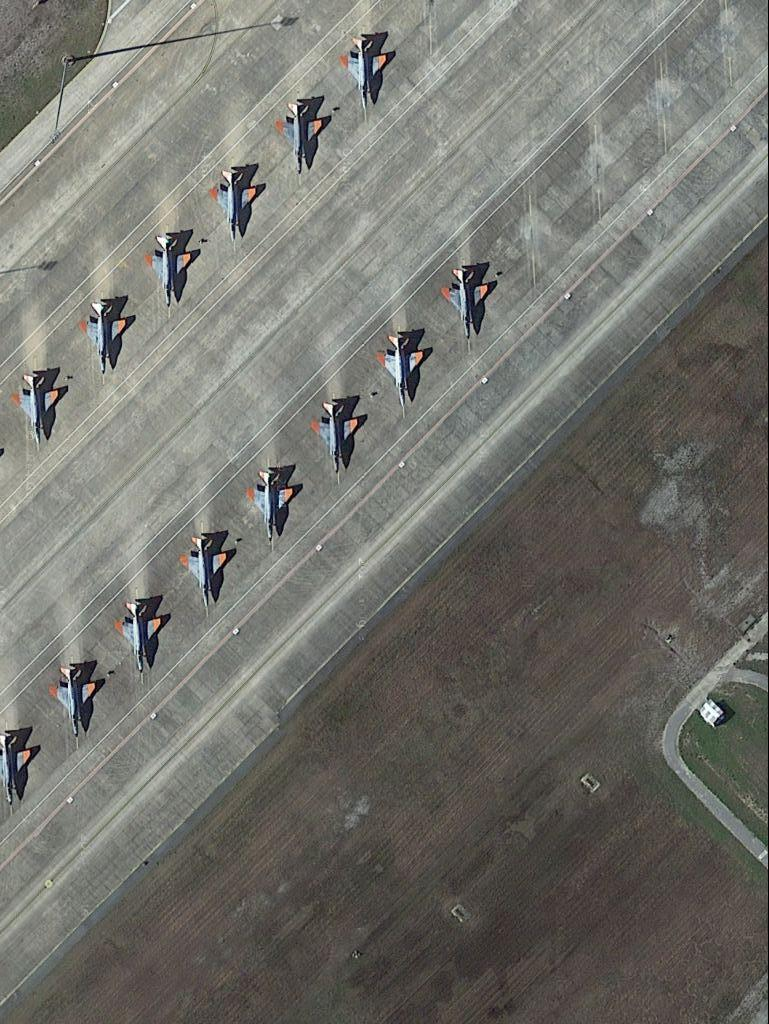plane: (308, 386, 369, 493), (438, 256, 496, 356), (375, 325, 433, 424), (206, 160, 264, 258), (47, 652, 103, 753), (143, 225, 200, 323), (8, 359, 66, 454), (245, 458, 301, 556), (179, 524, 235, 622), (112, 588, 167, 686), (338, 29, 390, 129), (271, 93, 329, 181), (77, 294, 132, 385), (1, 723, 43, 810)
